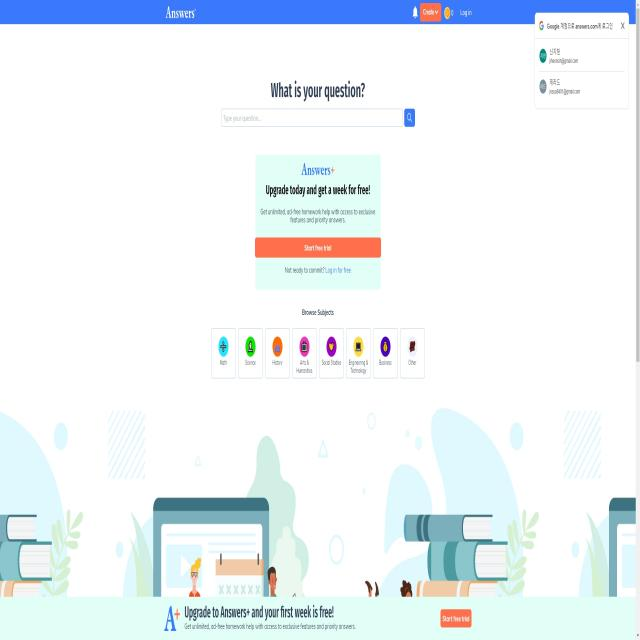search: (218, 106, 418, 132)
